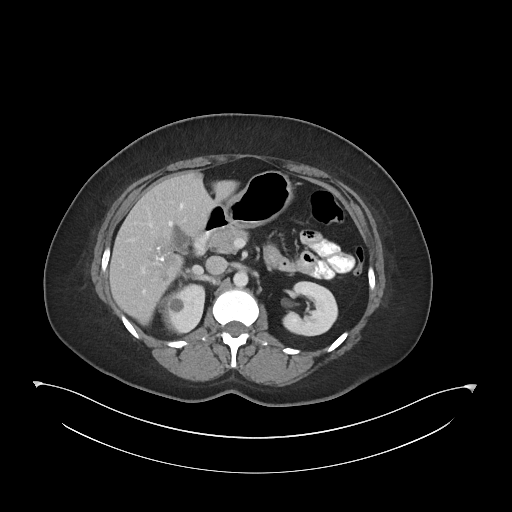Lesion: (168, 294, 184, 312)
